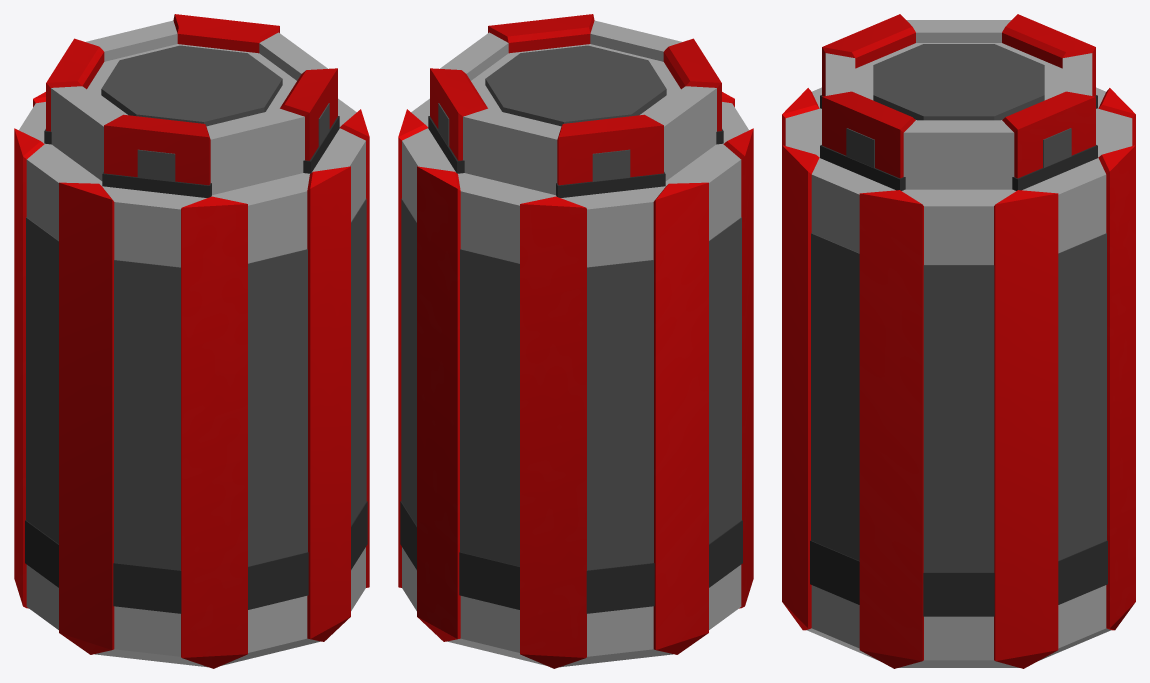
File: barrel_red.fbx
3 renders of one model, left to right at view 1: azimuth 30°, elevation 25°; view 2: azimuth 150°, elevation 25°; view 3: azimuth 270°, elevation 25°, orthographic.
Visible parts, largest first — view 1: Barrel_Boom_1; view 2: Barrel_Boom_1; view 3: Barrel_Boom_1.
Boxes of the visible parts, left/top/right/bottom form: Barrel_Boom_1: left=14, top=14, right=369, bottom=668; Barrel_Boom_1: left=398, top=14, right=753, bottom=668; Barrel_Boom_1: left=782, top=14, right=1135, bottom=668.
Size of the model in its own units: 56.52 by 93.71 by 56.52.
